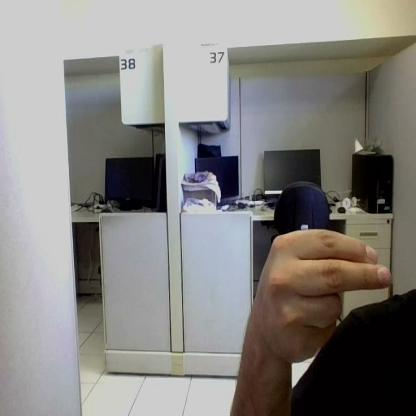H: (266, 230, 388, 363)
